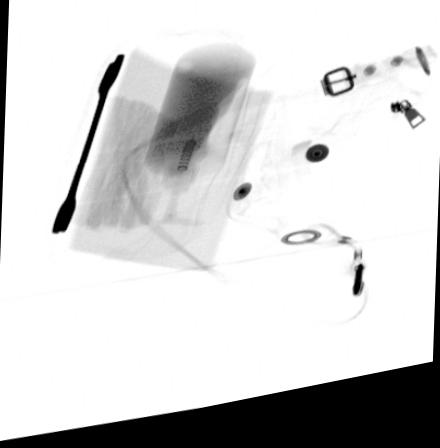Wrench: (47, 56, 126, 238)
